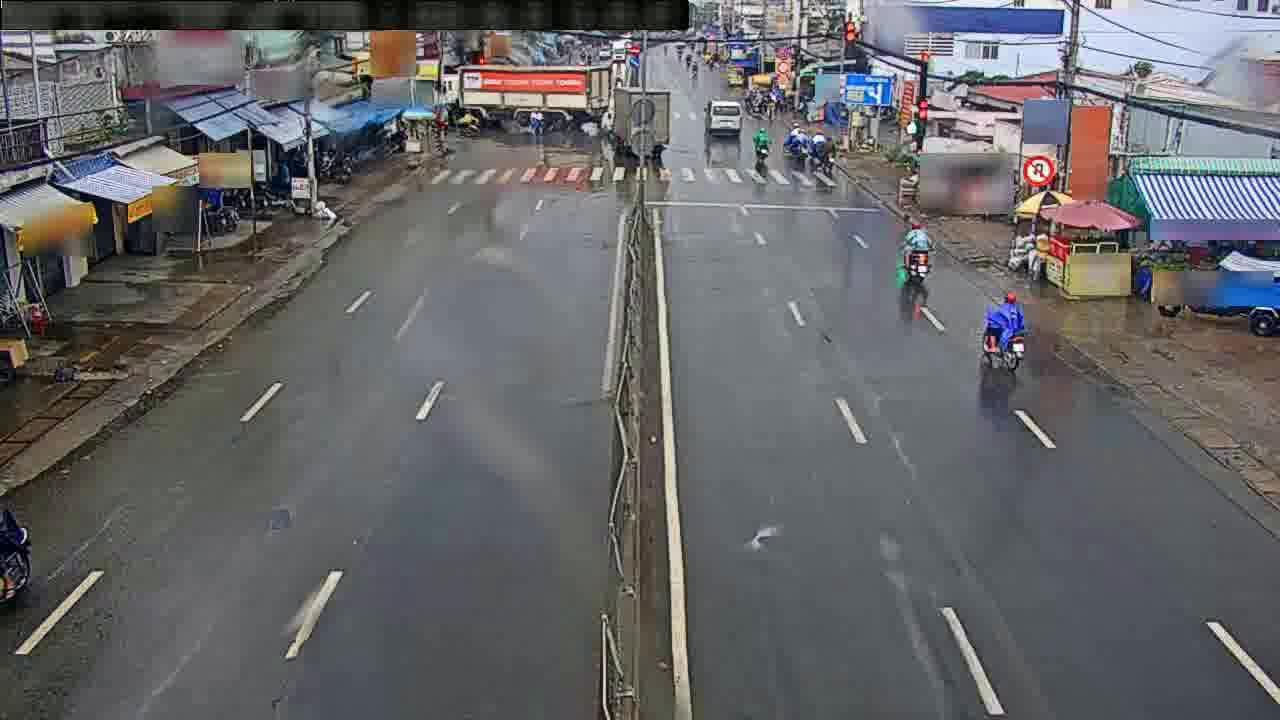container: (697, 93, 749, 136)
motorbike: (977, 287, 1020, 372), (900, 219, 930, 286), (814, 129, 836, 175), (788, 120, 811, 160), (751, 126, 773, 160)
